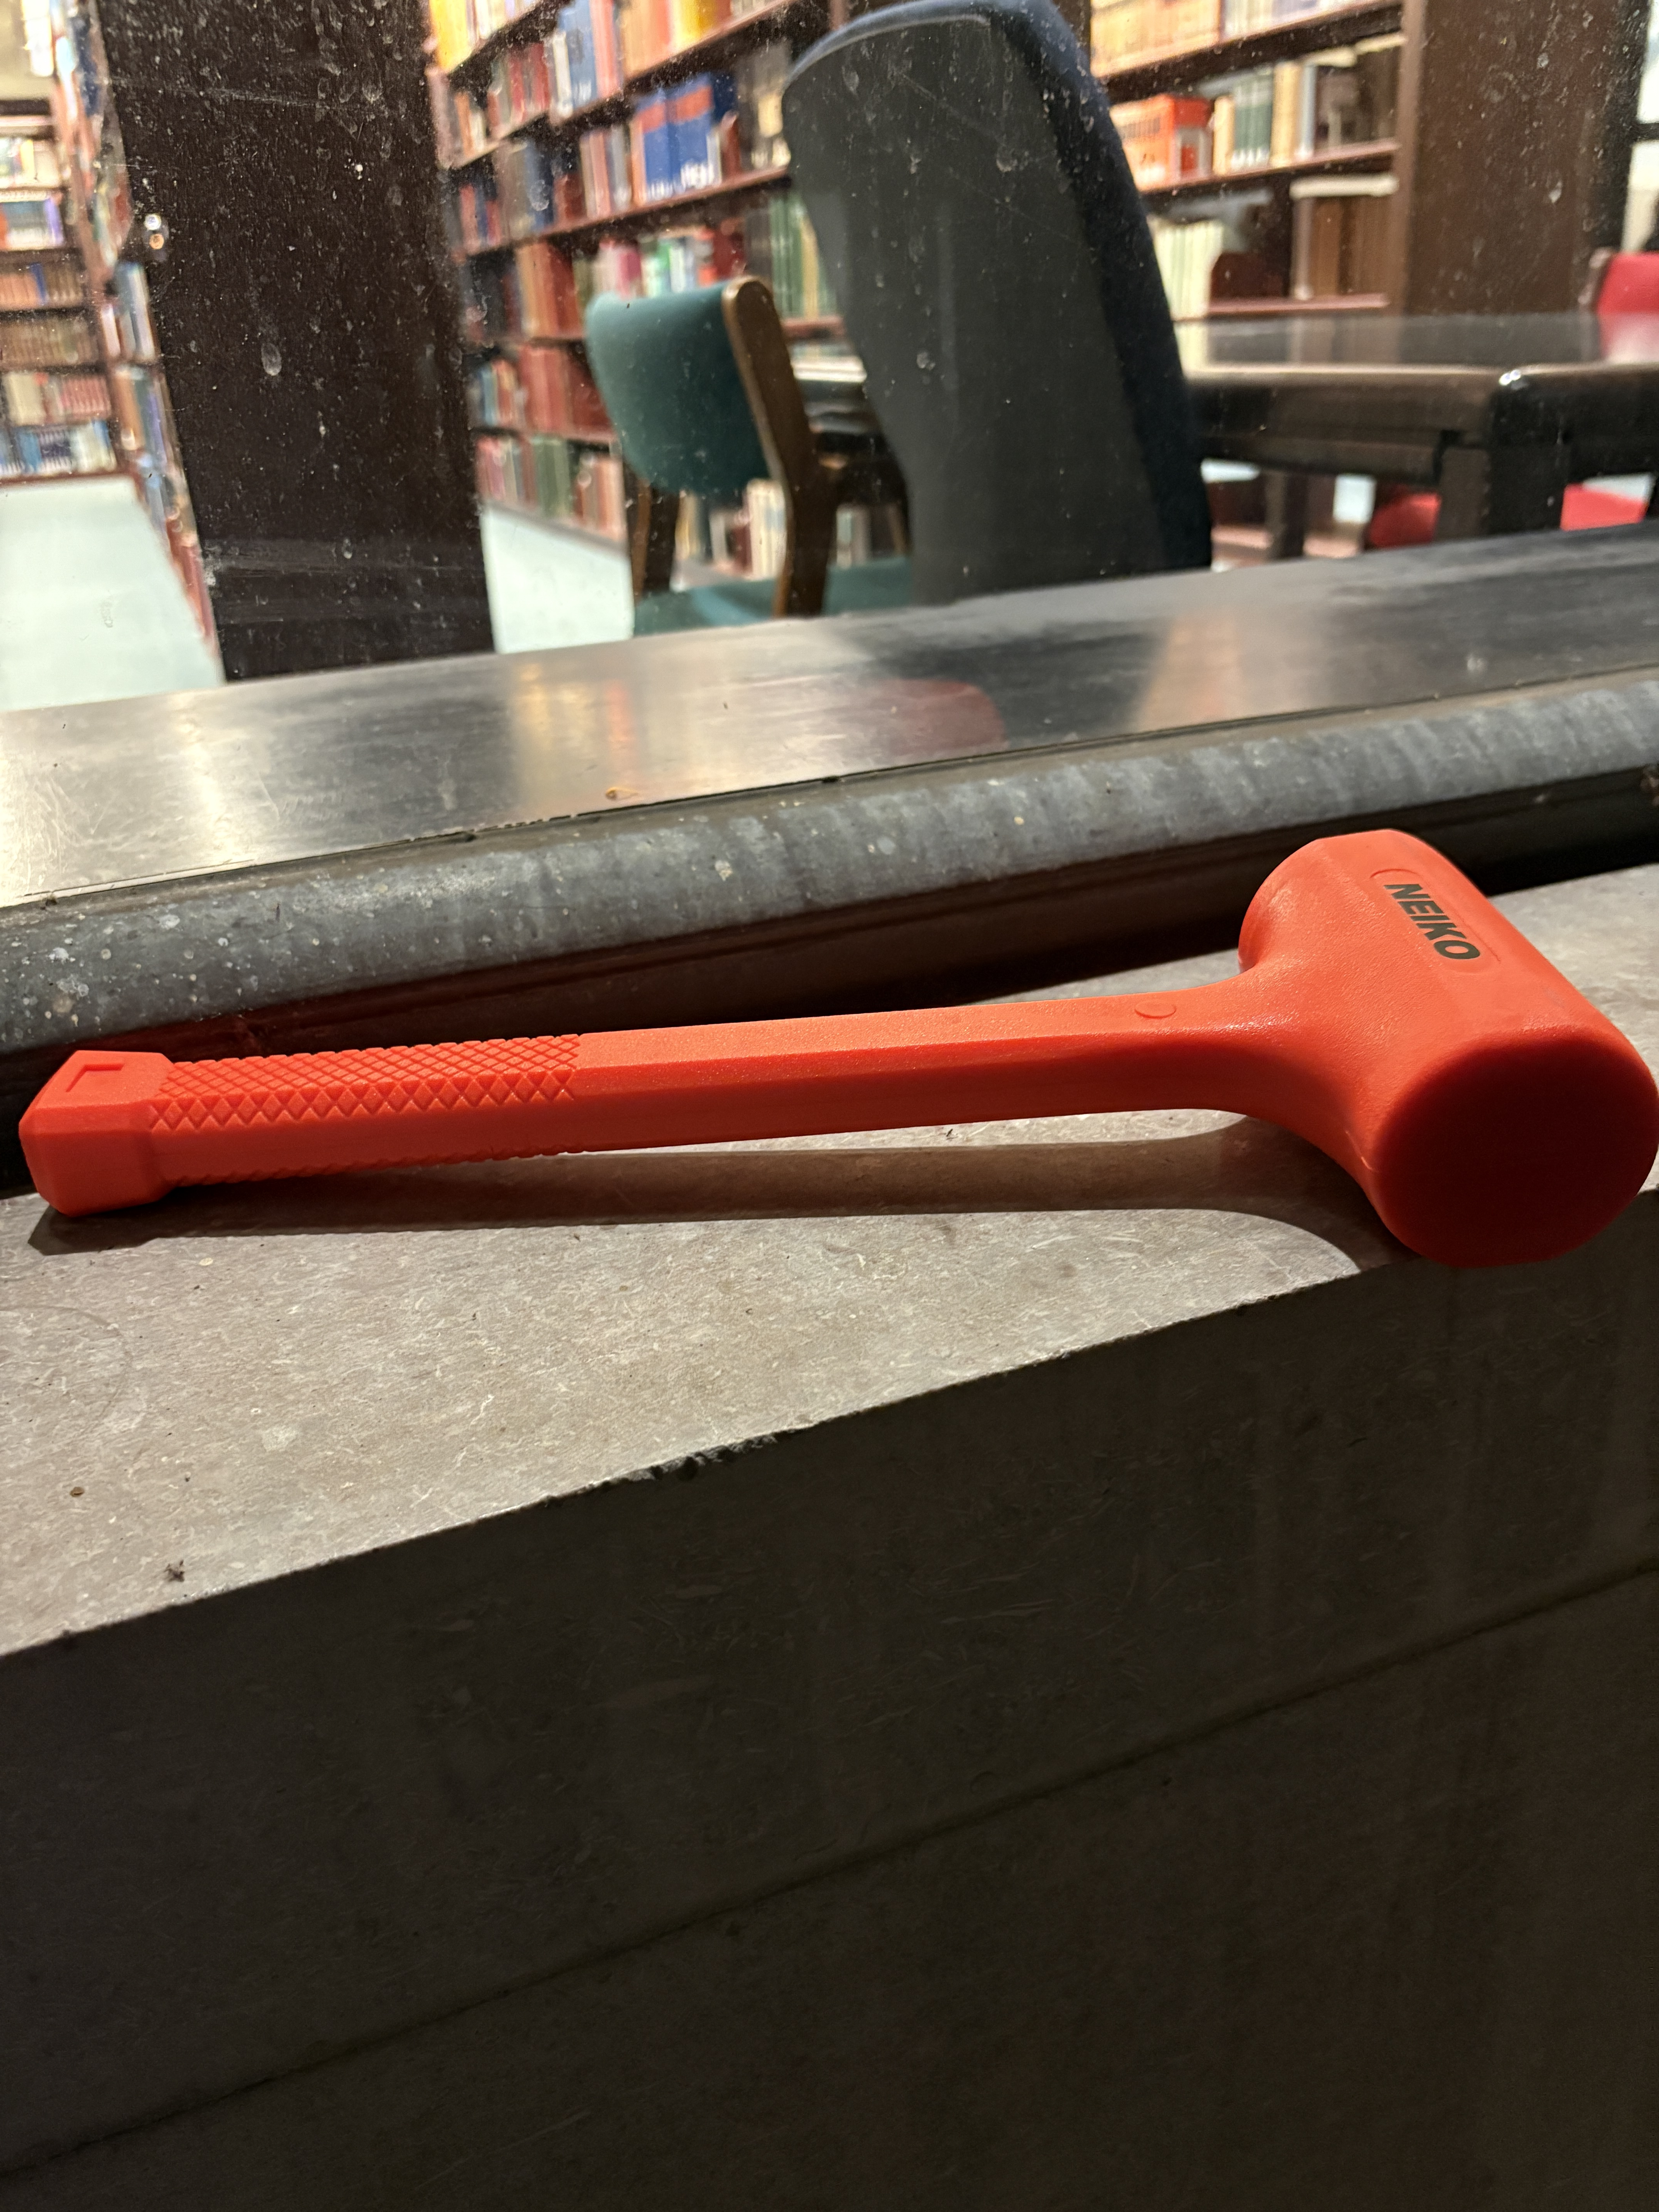Hammer: (28, 763, 1659, 1353)
